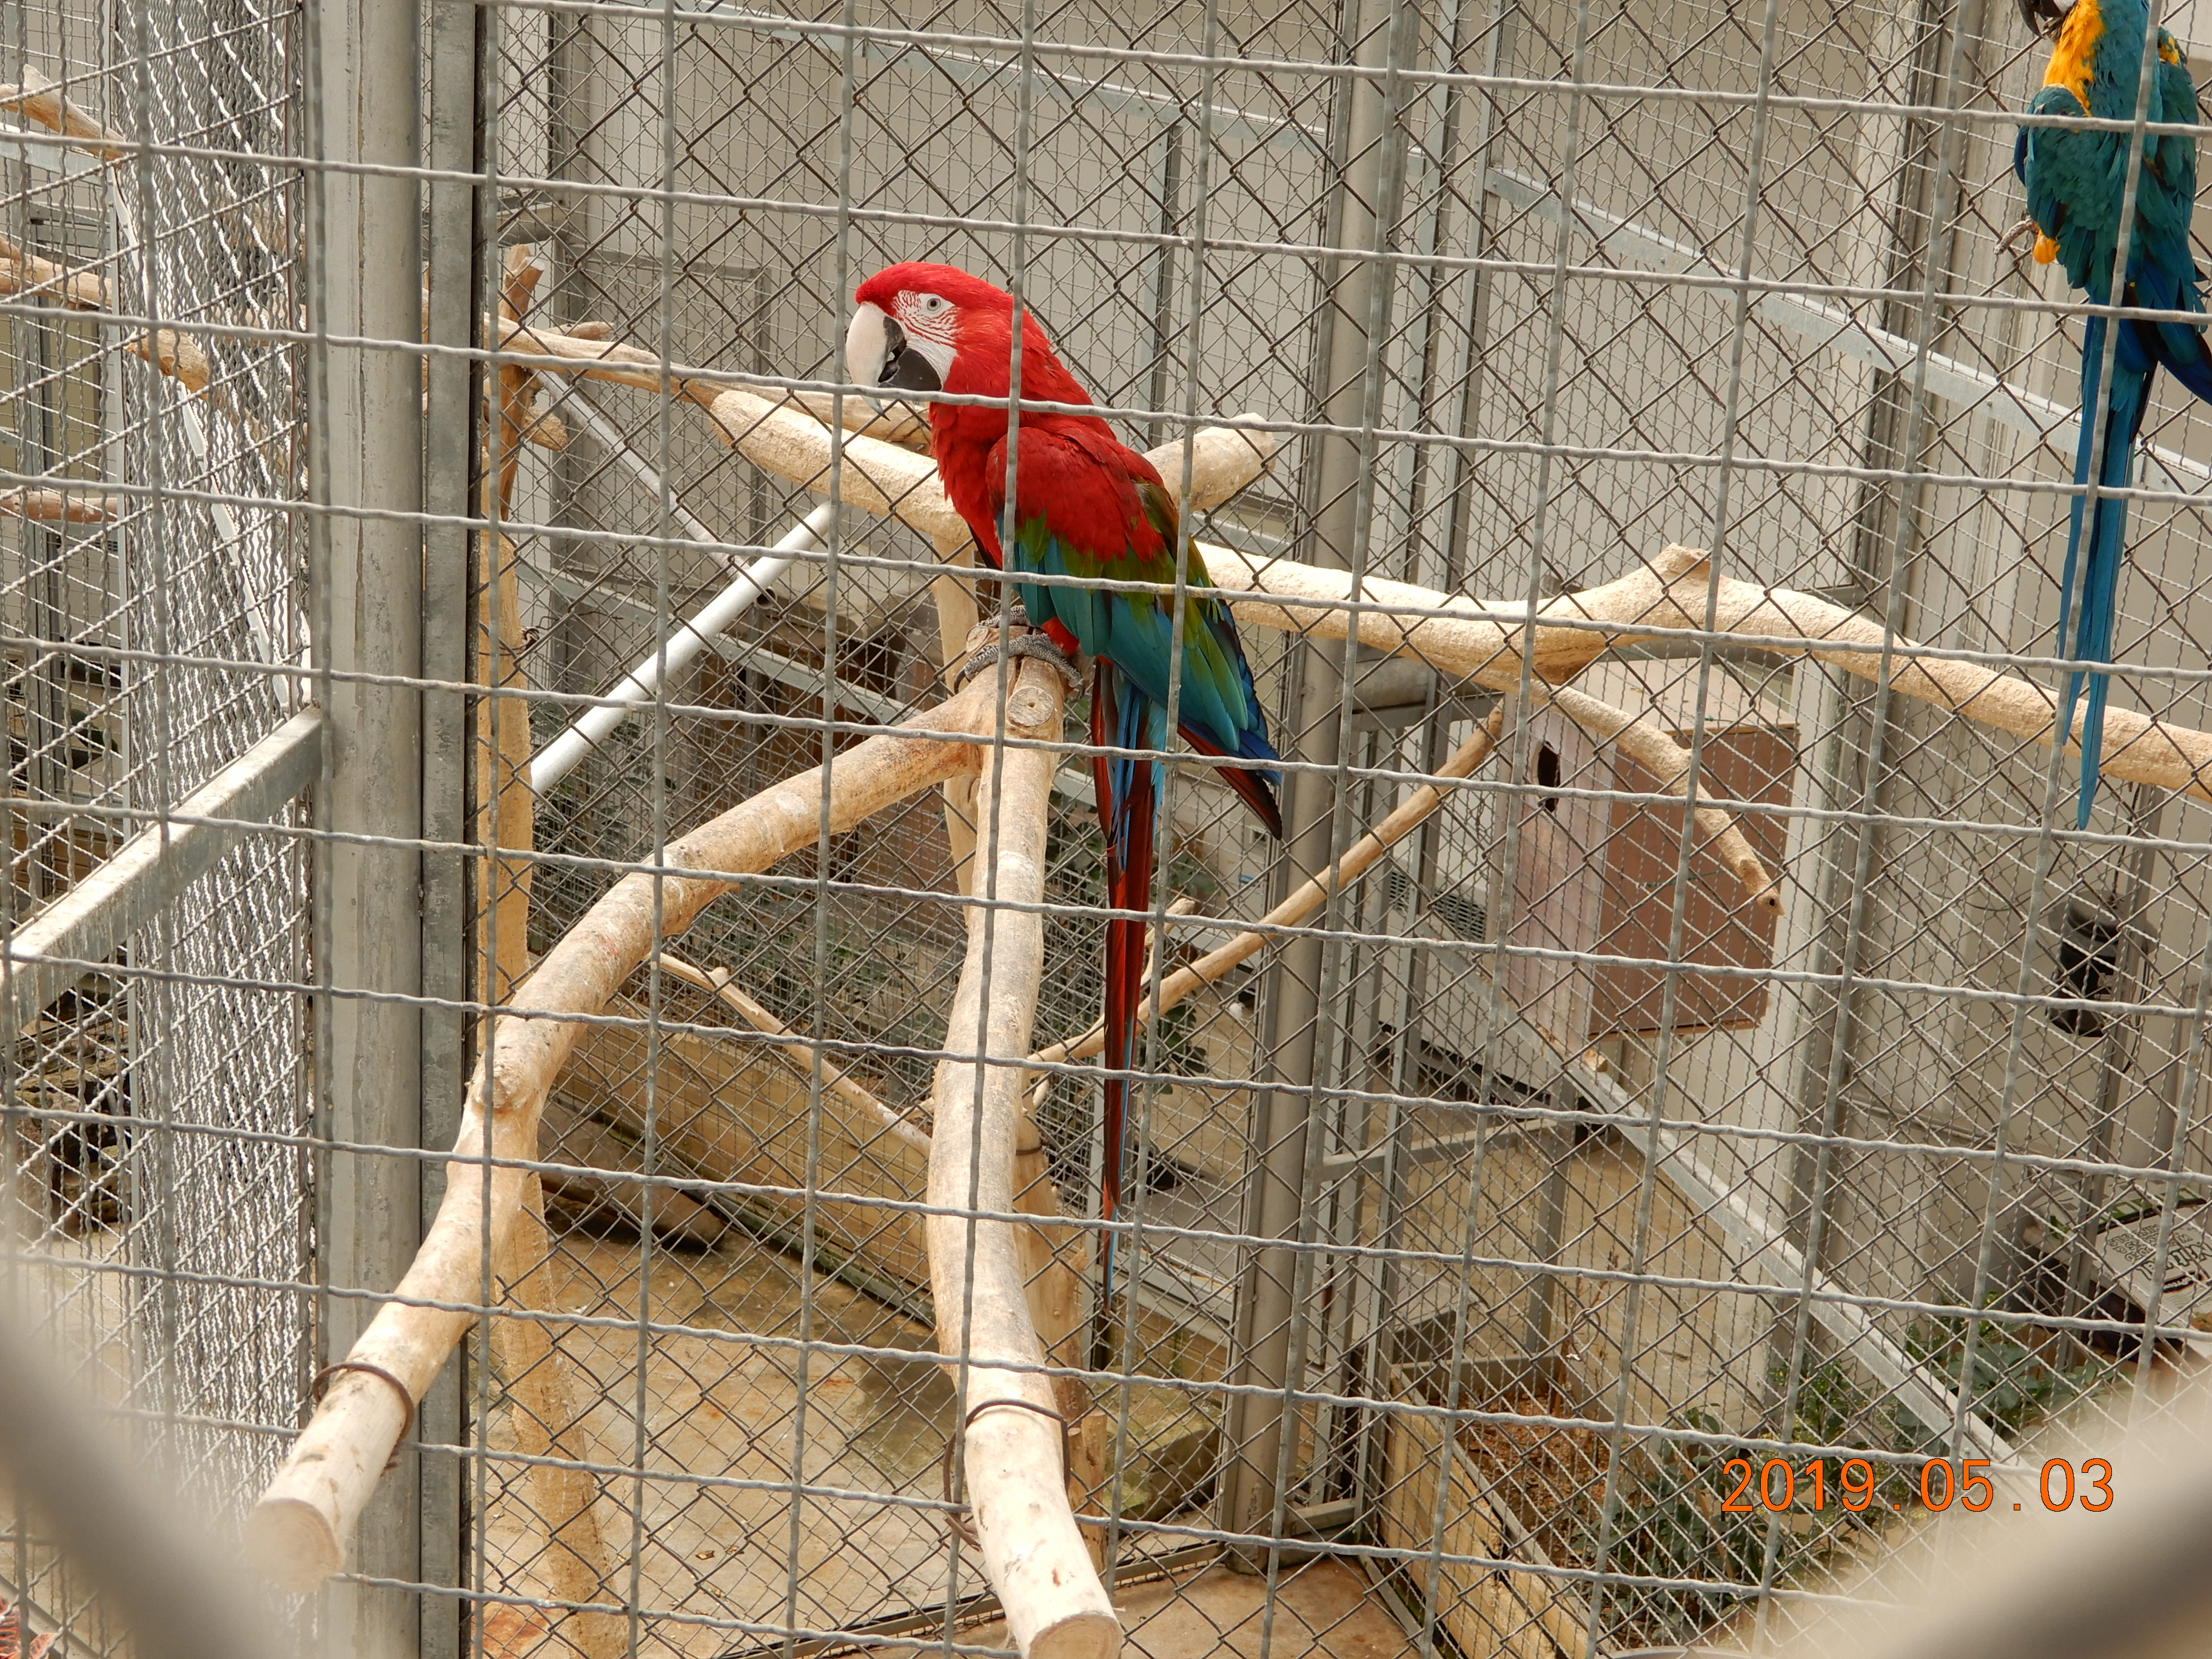Ara chloroptera: (841, 254, 1273, 1246)
